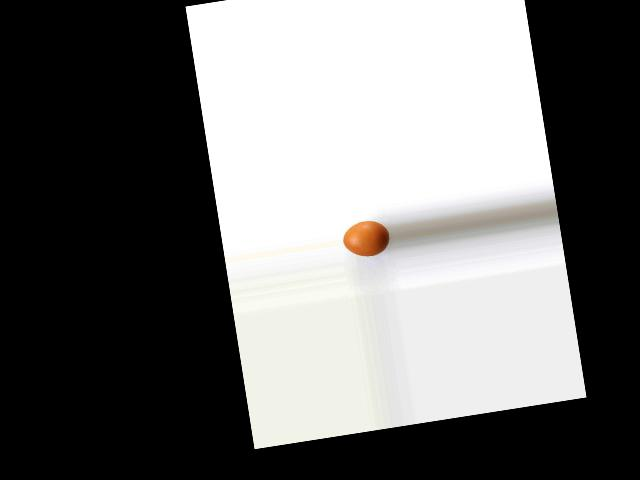egg: (341, 218, 391, 260)
